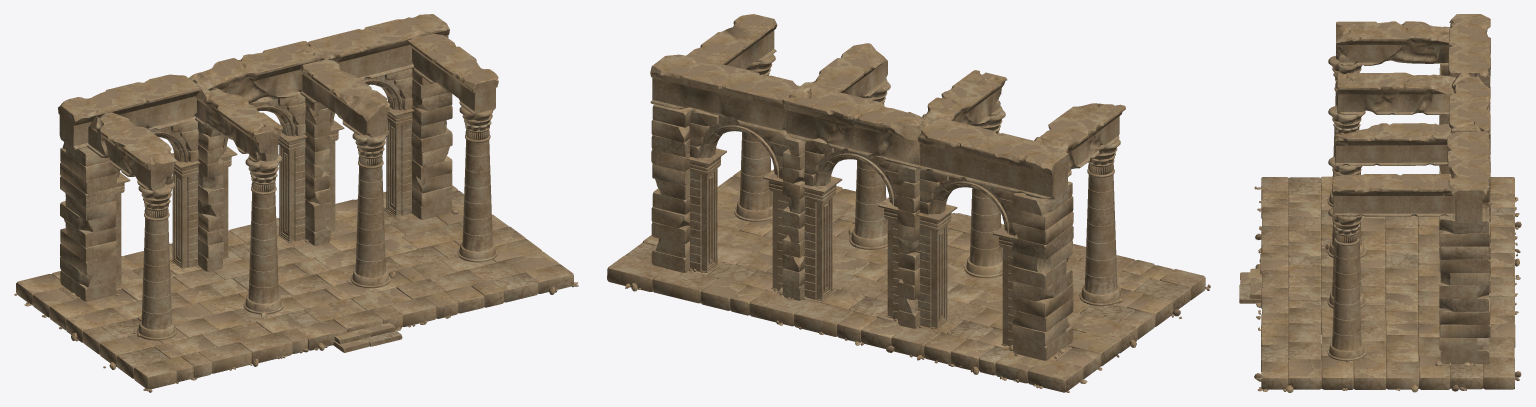
The model's file is ruin_colonnade_long.gltf.
3 renders of one model, left to right at view 1: azimuth 30°, elevation 25°; view 2: azimuth 150°, elevation 25°; view 3: azimuth 270°, elevation 25°, orthographic. The views are drawn at different scales.
Visible parts, largest first — view 1: egyptian_ruins_09_iray; view 2: egyptian_ruins_09_iray; view 3: egyptian_ruins_09_iray.
Boxes of the visible parts, box(x1,y1,x2,y2) form: egyptian_ruins_09_iray: box(14, 14, 578, 392); egyptian_ruins_09_iray: box(607, 14, 1210, 392); egyptian_ruins_09_iray: box(1239, 14, 1521, 392).
Bounding box in the file's own units: 17.86 × 7.62 × 10.22.
3 materials, 3 textured.
